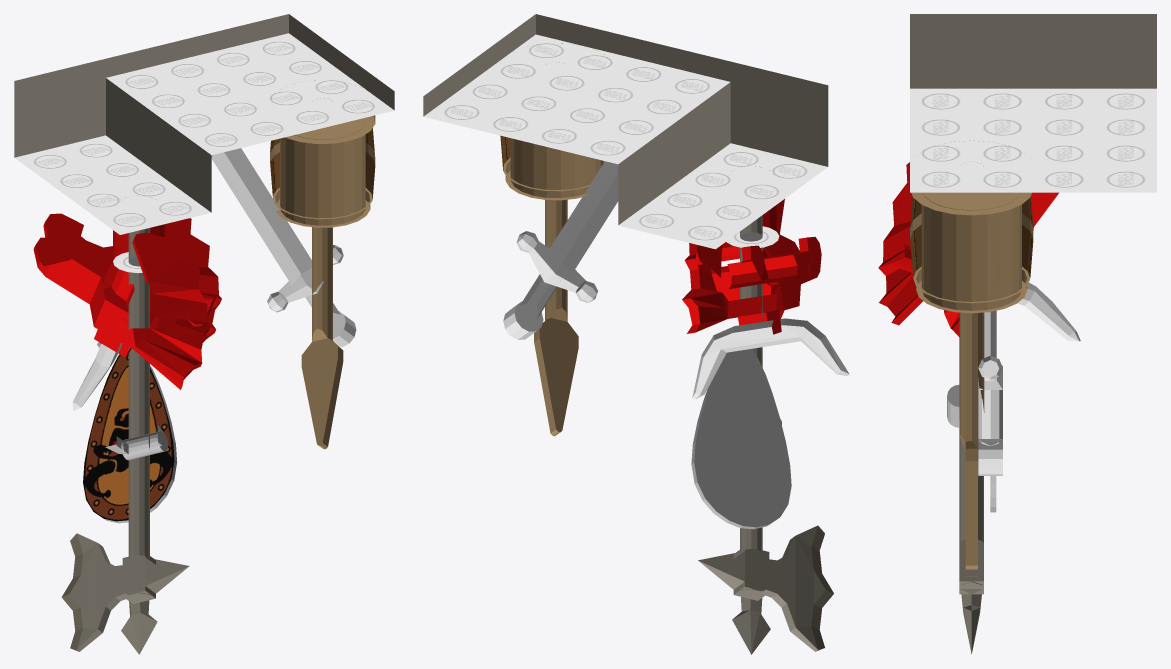
3 renders of one model, left to right at view 1: azimuth 30°, elevation 25°; view 2: azimuth 150°, elevation 25°; view 3: azimuth 270°, elevation 25°, orthographic. The views are drawn at different scales.
Visible parts, largest first — view 1: 006_OC_6032B4_PART_1, 031_OC_6032B4_PART_2, 037_OC_6032B4_PART_4, 027_OC_6032B4_PART_3, 018_OC_6032B4_PART_7, 021_OC_6032B4_PART_6, 045_OC_6032B4_PART_5; view 2: 006_OC_6032B4_PART_1, 031_OC_6032B4_PART_2, 027_OC_6032B4_PART_3, 037_OC_6032B4_PART_4, 018_OC_6032B4_PART_7, 021_OC_6032B4_PART_6, 045_OC_6032B4_PART_5; view 3: 006_OC_6032B4_PART_1, 031_OC_6032B4_PART_2, 021_OC_6032B4_PART_6, 018_OC_6032B4_PART_7, 037_OC_6032B4_PART_4, 027_OC_6032B4_PART_3.
Boxes of the visible parts, <box> form: 006_OC_6032B4_PART_1: <box>14,14,394,234</box>; 031_OC_6032B4_PART_2: <box>33,213,221,410</box>; 037_OC_6032B4_PART_4: <box>61,228,189,654</box>; 027_OC_6032B4_PART_3: <box>83,354,177,523</box>; 018_OC_6032B4_PART_7: <box>211,148,356,346</box>; 021_OC_6032B4_PART_6: <box>301,98,343,449</box>; 045_OC_6032B4_PART_5: <box>113,195,165,273</box>; 006_OC_6032B4_PART_1: <box>423,14,828,249</box>; 031_OC_6032B4_PART_2: <box>682,199,849,399</box>; 027_OC_6032B4_PART_3: <box>691,349,791,529</box>; 037_OC_6032B4_PART_4: <box>698,215,833,654</box>; 018_OC_6032B4_PART_7: <box>503,161,618,339</box>; 021_OC_6032B4_PART_6: <box>534,62,578,436</box>; 045_OC_6032B4_PART_5: <box>726,166,779,247</box>; 006_OC_6032B4_PART_1: <box>910,14,1156,313</box>; 031_OC_6032B4_PART_2: <box>878,162,1080,341</box>; 021_OC_6032B4_PART_6: <box>959,162,984,569</box>; 018_OC_6032B4_PART_7: <box>978,310,1002,475</box>; 037_OC_6032B4_PART_4: <box>959,338,983,653</box>; 027_OC_6032B4_PART_3: <box>947,385,996,512</box>.
Bounding box in the file's own units: 5.5 × 8.8 × 3.61.
11 materials, 5 textured.
